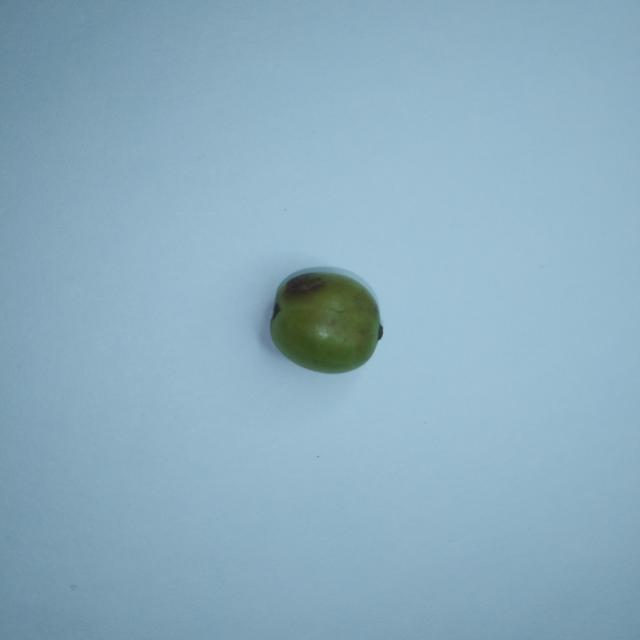Sano: (270, 269, 382, 373)
